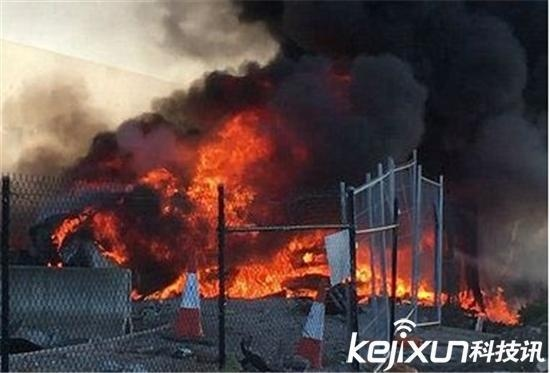fire: (88, 101, 491, 317)
